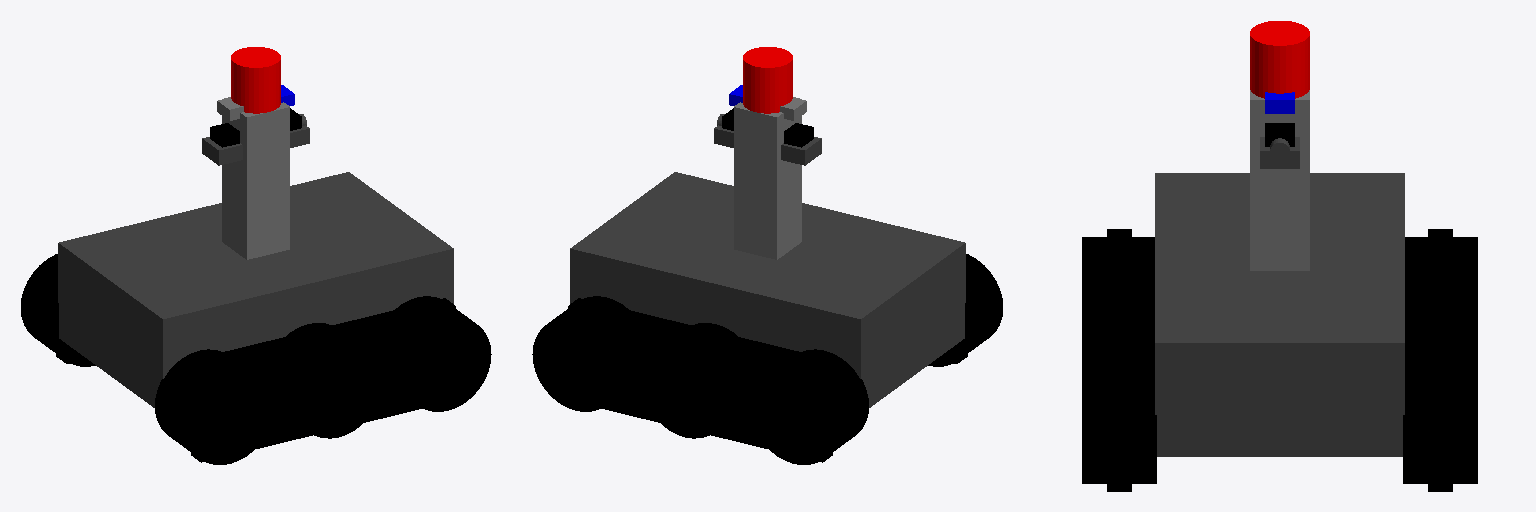
The robot description file, URDF, robot "agricultural_robot":
<?xml version="1.0"?>
<robot name="agricultural_robot" xmlns:xacro="http://www.ros.org/wiki/xacro">

  <!-- Define materials -->
  <material name="black">
    <color rgba="0 0 0 1"/>
  </material>
  
  <material name="gray">
    <color rgba="0.5 0.5 0.5 1"/>
  </material>
  
  <material name="dark_gray">
    <color rgba="0.3 0.3 0.3 1"/>
  </material>
  
  <material name="red">
    <color rgba="1 0 0 1"/>
  </material>
  
  <material name="blue">
    <color rgba="0 0 1 1"/>
  </material>

  <!-- Main body/chassis -->
  <link name="base_link">
    <inertial>
      <mass value="50"/>
      <inertia ixx="10" ixy="0" ixz="0" iyy="10" iyz="0" izz="10"/>
    </inertial>
    
    <visual>
      <geometry>
        <box size="0.8 0.5 0.25"/>
      </geometry>
      <material name="dark_gray"/>
    </visual>
    
    <collision>
      <geometry>
        <box size="0.8 0.5 0.25"/>
      </geometry>
    </collision>
  </link>
  
  <!-- Left track assembly with multiple wheels -->
  <link name="left_track_front">
    <inertial>
      <mass value="3"/>
      <inertia ixx="0.1" ixy="0" ixz="0" iyy="0.1" iyz="0" izz="0.1"/>
    </inertial>
    
    <visual>
      <origin xyz="0 0 0" rpy="1.5708 0 0"/>
      <geometry>
        <cylinder length="0.15" radius="0.12"/>
      </geometry>
      <material name="black"/>
    </visual>
    
    <collision>
      <origin xyz="0 0 0" rpy="1.5708 0 0"/>
      <geometry>
        <cylinder length="0.15" radius="0.12"/>
      </geometry>
    </collision>
  </link>
  
  <joint name="left_track_front_joint" type="continuous">
    <parent link="base_link"/>
    <child link="left_track_front"/>
    <origin xyz="0.3 0.32 -0.1" rpy="0 0 0"/>
    <axis xyz="0 0 1"/>
  </joint>
  
  <link name="left_track_middle">
    <inertial>
      <mass value="3"/>
      <inertia ixx="0.1" ixy="0" ixz="0" iyy="0.1" iyz="0" izz="0.1"/>
    </inertial>
    
    <visual>
      <origin xyz="0 0 0" rpy="1.5708 0 0"/>
      <geometry>
        <cylinder length="0.15" radius="0.12"/>
      </geometry>
      <material name="black"/>
    </visual>
    
    <collision>
      <origin xyz="0 0 0" rpy="1.5708 0 0"/>
      <geometry>
        <cylinder length="0.15" radius="0.12"/>
      </geometry>
    </collision>
  </link>
  
  <joint name="left_track_middle_joint" type="continuous">
    <parent link="base_link"/>
    <child link="left_track_middle"/>
    <origin xyz="0 0.32 -0.1" rpy="0 0 0"/>
    <axis xyz="0 0 1"/>
  </joint>
  
  <link name="left_track_rear">
    <inertial>
      <mass value="3"/>
      <inertia ixx="0.1" ixy="0" ixz="0" iyy="0.1" iyz="0" izz="0.1"/>
    </inertial>
    
    <visual>
      <origin xyz="0 0 0" rpy="1.5708 0 0"/>
      <geometry>
        <cylinder length="0.15" radius="0.12"/>
      </geometry>
      <material name="black"/>
    </visual>
    
    <collision>
      <origin xyz="0 0 0" rpy="1.5708 0 0"/>
      <geometry>
        <cylinder length="0.15" radius="0.12"/>
      </geometry>
    </collision>
  </link>
  
  <joint name="left_track_rear_joint" type="continuous">
    <parent link="base_link"/>
    <child link="left_track_rear"/>
    <origin xyz="-0.3 0.32 -0.1" rpy="0 0 0"/>
    <axis xyz="0 0 1"/>
  </joint>
  
  <!-- Right track assembly with multiple wheels -->
  <link name="right_track_front">
    <inertial>
      <mass value="3"/>
      <inertia ixx="0.1" ixy="0" ixz="0" iyy="0.1" iyz="0" izz="0.1"/>
    </inertial>
    
    <visual>
      <origin xyz="0 0 0" rpy="1.5708 0 0"/>
      <geometry>
        <cylinder length="0.15" radius="0.12"/>
      </geometry>
      <material name="black"/>
    </visual>
    
    <collision>
      <origin xyz="0 0 0" rpy="1.5708 0 0"/>
      <geometry>
        <cylinder length="0.15" radius="0.12"/>
      </geometry>
    </collision>
  </link>
  
  <joint name="right_track_front_joint" type="continuous">
    <parent link="base_link"/>
    <child link="right_track_front"/>
    <origin xyz="0.3 -0.32 -0.1" rpy="0 0 0"/>
    <axis xyz="0 0 1"/>
  </joint>
  
  <link name="right_track_middle">
    <inertial>
      <mass value="3"/>
      <inertia ixx="0.1" ixy="0" ixz="0" iyy="0.1" iyz="0" izz="0.1"/>
    </inertial>
    
    <visual>
      <origin xyz="0 0 0" rpy="1.5708 0 0"/>
      <geometry>
        <cylinder length="0.15" radius="0.12"/>
      </geometry>
      <material name="black"/>
    </visual>
    
    <collision>
      <origin xyz="0 0 0" rpy="1.5708 0 0"/>
      <geometry>
        <cylinder length="0.15" radius="0.12"/>
      </geometry>
    </collision>
  </link>
  
  <joint name="right_track_middle_joint" type="continuous">
    <parent link="base_link"/>
    <child link="right_track_middle"/>
    <origin xyz="0 -0.32 -0.1" rpy="0 0 0"/>
    <axis xyz="0 0 1"/>
  </joint>
  
  <link name="right_track_rear">
    <inertial>
      <mass value="3"/>
      <inertia ixx="0.1" ixy="0" ixz="0" iyy="0.1" iyz="0" izz="0.1"/>
    </inertial>
    
    <visual>
      <origin xyz="0 0 0" rpy="1.5708 0 0"/>
      <geometry>
        <cylinder length="0.15" radius="0.12"/>
      </geometry>
      <material name="black"/>
    </visual>
    
    <collision>
      <origin xyz="0 0 0" rpy="1.5708 0 0"/>
      <geometry>
        <cylinder length="0.15" radius="0.12"/>
      </geometry>
    </collision>
  </link>
  
  <joint name="right_track_rear_joint" type="continuous">
    <parent link="base_link"/>
    <child link="right_track_rear"/>
    <origin xyz="-0.3 -0.32 -0.1" rpy="0 0 0"/>
    <axis xyz="0 0 1"/>
  </joint>
  
  <!-- Track belts (visual only) -->
  <link name="left_track_belt">
    <visual>
      <origin xyz="0 0.32 -0.1" rpy="0 0 0"/>
      <geometry>
        <box size="0.7 0.05 0.25"/>
      </geometry>
      <material name="black"/>
    </visual>
  </link>
  
  <joint name="left_track_belt_joint" type="fixed">
    <parent link="base_link"/>
    <child link="left_track_belt"/>
  </joint>
  
  <link name="right_track_belt">
    <visual>
      <origin xyz="0 -0.32 -0.1" rpy="0 0 0"/>
      <geometry>
        <box size="0.7 0.05 0.25"/>
      </geometry>
      <material name="black"/>
    </visual>
  </link>
  
  <joint name="right_track_belt_joint" type="fixed">
    <parent link="base_link"/>
    <child link="right_track_belt"/>
  </joint>
  
  <!-- Sensor mast -->
  <link name="sensor_mast">
    <inertial>
      <mass value="2"/>
      <inertia ixx="0.1" ixy="0" ixz="0" iyy="0.1" iyz="0" izz="0.1"/>
    </inertial>
    
    <visual>
      <geometry>
        <box size="0.12 0.12 0.4"/>
      </geometry>
      <material name="gray"/>
    </visual>
    
    <collision>
      <geometry>
        <box size="0.12 0.12 0.4"/>
      </geometry>
    </collision>
  </link>
  
  <joint name="sensor_mast_joint" type="fixed">
    <parent link="base_link"/>
    <child link="sensor_mast"/>
    <origin xyz="0 0 0.3" rpy="0 0 0"/>
  </joint>
  
  <!-- LiDAR sensor at the top -->
  <link name="lidar_link">
    <inertial>
      <mass value="0.5"/>
      <inertia ixx="0.01" ixy="0" ixz="0" iyy="0.01" iyz="0" izz="0.01"/>
    </inertial>
    
    <visual>
      <geometry>
        <cylinder length="0.12" radius="0.06"/>
      </geometry>
      <material name="red"/>
    </visual>
    
    <collision>
      <geometry>
        <cylinder length="0.12" radius="0.06"/>
      </geometry>
    </collision>
  </link>
  
  <joint name="lidar_joint" type="fixed">
    <parent link="sensor_mast"/>
    <child link="lidar_link"/>
    <origin xyz="0 0 0.26" rpy="0 0 0"/>
  </joint>
  
  <!-- IMU sensor -->
  <link name="imu_link">
    <inertial>
      <mass value="0.1"/>
      <inertia ixx="0.001" ixy="0" ixz="0" iyy="0.001" iyz="0" izz="0.001"/>
    </inertial>
    
    <visual>
      <geometry>
        <box size="0.06 0.06 0.03"/>
      </geometry>
      <material name="blue"/>
    </visual>
    
    <collision>
      <geometry>
        <box size="0.06 0.06 0.03"/>
      </geometry>
    </collision>
  </link>
  
  <joint name="imu_joint" type="fixed">
    <parent link="sensor_mast"/>
    <child link="imu_link"/>
    <origin xyz="0.06 0 0.2" rpy="0 0 0"/>
  </joint>
  
  <!-- GPS sensor -->
  <link name="gps_link">
    <inertial>
      <mass value="0.1"/>
      <inertia ixx="0.001" ixy="0" ixz="0" iyy="0.001" iyz="0" izz="0.001"/>
    </inertial>
    
    <visual>
      <geometry>
        <box size="0.06 0.06 0.03"/>
      </geometry>
      <material name="gray"/>
    </visual>
    
    <collision>
      <geometry>
        <box size="0.06 0.06 0.03"/>
      </geometry>
    </collision>
  </link>
  
  <joint name="gps_joint" type="fixed">
    <parent link="sensor_mast"/>
    <child link="gps_link"/>
    <origin xyz="-0.06 0 0.2" rpy="0 0 0"/>
  </joint>
  
  <!-- STEREO CAMERA MOUNT - positioned below LIDAR -->
  <link name="stereo_camera_mount">
    <inertial>
      <mass value="0.5"/>
      <inertia ixx="0.01" ixy="0" ixz="0" iyy="0.01" iyz="0" izz="0.01"/>
    </inertial>
    
    <visual>
      <geometry>
        <box size="0.25 0.08 0.04"/>
      </geometry>
      <material name="dark_gray"/>
    </visual>
    
    <collision>
      <geometry>
        <box size="0.25 0.08 0.04"/>
      </geometry>
    </collision>
  </link>
  
  <joint name="stereo_camera_mount_joint" type="fixed">
    <parent link="sensor_mast"/>
    <child link="stereo_camera_mount"/>
    <origin xyz="0 0 0.1" rpy="0 0 0"/>
  </joint>
  
  <!-- LEFT CAMERA - positioned side-by-side horizontally -->
  <link name="left_camera_link">
    <inertial>
      <mass value="0.2"/>
      <inertia ixx="0.001" ixy="0" ixz="0" iyy="0.001" iyz="0" izz="0.001"/>
    </inertial>
    
    <!-- Camera body -->
    <visual>
      <origin xyz="0 0 0" rpy="0 0 0"/>
      <geometry>
        <box size="0.06 0.06 0.06"/>
      </geometry>
      <material name="black"/>
    </visual>
    
    <!-- Camera lens - clearly visible -->
    <visual>
      <origin xyz="0.03 0 0" rpy="0 1.5708 0"/>
      <geometry>
        <cylinder length="0.04" radius="0.02"/>
      </geometry>
      <material name="dark_gray"/>
    </visual>
    
    <collision>
      <geometry>
        <box size="0.06 0.06 0.06"/>
      </geometry>
    </collision>
  </link>
  
  <joint name="left_camera_joint" type="fixed">
    <parent link="stereo_camera_mount"/>
    <child link="left_camera_link"/>
    <origin xyz="-0.08 0 0.02" rpy="0 0 0"/>
  </joint>
  
  <!-- RIGHT CAMERA - positioned side-by-side horizontally -->
  <link name="right_camera_link">
    <inertial>
      <mass value="0.2"/>
      <inertia ixx="0.001" ixy="0" ixz="0" iyy="0.001" iyz="0" izz="0.001"/>
    </inertial>
    
    <!-- Camera body -->
    <visual>
      <origin xyz="0 0 0" rpy="0 0 0"/>
      <geometry>
        <box size="0.06 0.06 0.06"/>
      </geometry>
      <material name="black"/>
    </visual>
    
    <!-- Camera lens - clearly visible -->
    <visual>
      <origin xyz="0.03 0 0" rpy="0 1.5708 0"/>
      <geometry>
        <cylinder length="0.04" radius="0.02"/>
      </geometry>
      <material name="dark_gray"/>
    </visual>
    
    <collision>
      <geometry>
        <box size="0.06 0.06 0.06"/>
      </geometry>
    </collision>
  </link>
  
  <joint name="right_camera_joint" type="fixed">
    <parent link="stereo_camera_mount"/>
    <child link="right_camera_link"/>
    <origin xyz="0.08 0 0.02" rpy="0 0 0"/>
  </joint>
  
  <!-- Gazebo plugins for sensors -->
  <gazebo>
    <plugin name="imu_plugin" filename="libgazebo_ros_imu.so">
      <robotNamespace>/</robotNamespace>
      <topicName>imu/data</topicName>
      <serviceName>imu/service</serviceName>
      <bodyName>imu_link</bodyName>
      <gaussianNoise>0.0</gaussianNoise>
      <updateRate>50.0</updateRate>
    </plugin>
  </gazebo>
  
  <gazebo>
    <plugin name="gps_plugin" filename="libhector_gazebo_ros_gps.so">
      <robotNamespace>/</robotNamespace>
      <topicName>gps/fix</topicName>
      <referenceLatitude>49.9</referenceLatitude>
      <referenceLongitude>8.9</referenceLongitude>
      <referenceAltitude>0</referenceAltitude>
      <updateRate>10</updateRate>
    </plugin>
  </gazebo>
  
  <gazebo reference="lidar_link">
    <sensor type="ray" name="lidar_sensor">
      <pose>0 0 0 0 0 0</pose>
      <visualize>true</visualize>
      <update_rate>10</update_rate>
      <ray>
        <scan>
          <horizontal>
            <samples>360</samples>
            <min_angle>-3.14159</min_angle>
            <max_angle>3.14159</max_angle>
          </horizontal>
        </scan>
        <range>
          <min>0.1</min>
          <max>10.0</max>
          <resolution>0.01</resolution>
        </range>
      </ray>
      <plugin name="gazebo_ros_laser" filename="libgazebo_ros_laser.so">
        <topicName>/scan</topicName>
        <frameName>lidar_link</frameName>
      </plugin>
    </sensor>
  </gazebo>
  
  <gazebo reference="left_camera_link">
    <sensor type="camera" name="left_camera_sensor">
      <update_rate>30.0</update_rate>
      <camera name="left_camera">
        <horizontal_fov>1.3962634</horizontal_fov>
        <image>
          <width>640</width>
          <height>480</height>
          <format>R8G8B8</format>
        </image>
        <clip>
          <near>0.02</near>
          <far>300</far>
        </clip>
      </camera>
      <plugin name="left_camera_controller" filename="libgazebo_ros_camera.so">
        <alwaysOn>true</alwaysOn>
        <updateRate>0.0</updateRate>
        <cameraName>left_camera</cameraName>
        <imageTopicName>/left_camera/image_raw</imageTopicName>
        <cameraInfoTopicName>/left_camera/camera_info</cameraInfoTopicName>
        <frameName>left_camera_link</frameName>
      </plugin>
    </sensor>
  </gazebo>
  
  <gazebo reference="right_camera_link">
    <sensor type="camera" name="right_camera_sensor">
      <update_rate>30.0</update_rate>
      <camera name="right_camera">
        <horizontal_fov>1.3962634</horizontal_fov>
        <image>
          <width>640</width>
          <height>480</height>
          <format>R8G8B8</format>
        </image>
        <clip>
          <near>0.02</near>
          <far>300</far>
        </clip>
      </camera>
      <plugin name="right_camera_controller" filename="libgazebo_ros_camera.so">
        <alwaysOn>true</alwaysOn>
        <updateRate>0.0</updateRate>
        <cameraName>right_camera</cameraName>
        <imageTopicName>/right_camera/image_raw</imageTopicName>
        <cameraInfoTopicName>/right_camera/camera_info</cameraInfoTopicName>
        <frameName>right_camera_link</frameName>
      </plugin>
    </sensor>
  </gazebo>
  
  <!-- Differential drive plugin for the tracks -->
  <gazebo>
    <plugin name="differential_drive_controller" filename="libgazebo_ros_diff_drive.so">
      <alwaysOn>true</alwaysOn>
      <updateRate>20</updateRate>
      <leftJoint>left_track_front_joint</leftJoint>
      <rightJoint>right_track_front_joint</rightJoint>
      <wheelSeparation>0.64</wheelSeparation>
      <wheelDiameter>0.24</wheelDiameter>
      <torque>20</torque>
      <commandTopic>cmd_vel</commandTopic>
      <odometryTopic>odom</odometryTopic>
      <odometryFrame>odom</odometryFrame>
      <robotBaseFrame>base_link</robotBaseFrame>
    </plugin>
  </gazebo>

</robot>

--- Facts derived from the render (not from the file) ---
3 views of the same robot in one strip: view 1: azimuth 30°, elevation 25°; view 2: azimuth 150°, elevation 25°; view 3: azimuth 270°, elevation 25° (orthographic).
Robot: agricultural_robot — 16 links, 15 joints (6 continuous, 9 fixed); root link base_link; default pose: every joint at zero.
Visible links, largest first — view 1: base_link, right_track_rear, right_track_belt, sensor_mast, right_track_front, right_track_middle, left_track_rear, lidar_link, stereo_camera_mount, left_camera_link; view 2: base_link, left_track_rear, left_track_belt, sensor_mast, left_track_front, left_track_middle, right_track_rear, lidar_link, stereo_camera_mount, left_camera_link; view 3: base_link, left_track_front, right_track_front, sensor_mast, lidar_link, left_track_belt, right_track_belt, left_track_middle, right_track_middle, left_track_rear, right_track_rear, right_camera_link (+2 smaller).
Link boxes in pixels (box(x1,y1,x2,y2)): base_link: box(58, 172, 453, 407); right_track_rear: box(155, 349, 272, 464); right_track_belt: box(191, 298, 455, 462); sensor_mast: box(222, 97, 289, 259); right_track_front: box(394, 296, 491, 411); right_track_middle: box(285, 323, 381, 438); left_track_rear: box(21, 254, 95, 366); lidar_link: box(231, 47, 280, 113); stereo_camera_mount: box(202, 125, 309, 165); left_camera_link: box(210, 123, 239, 147); base_link: box(570, 172, 965, 407); left_track_rear: box(751, 349, 868, 464); left_track_belt: box(568, 298, 832, 462); sensor_mast: box(734, 97, 801, 259); left_track_front: box(532, 296, 629, 411); left_track_middle: box(642, 323, 738, 438); right_track_rear: box(928, 254, 1002, 366); lidar_link: box(743, 47, 792, 113); stereo_camera_mount: box(714, 125, 821, 165); left_camera_link: box(784, 123, 813, 147); base_link: box(1155, 173, 1404, 456); left_track_front: box(1403, 364, 1477, 483); right_track_front: box(1082, 364, 1156, 483); sensor_mast: box(1250, 90, 1309, 270); lidar_link: box(1250, 21, 1309, 98); left_track_belt: box(1428, 229, 1452, 491); right_track_belt: box(1107, 229, 1131, 491); left_track_middle: box(1405, 300, 1477, 363); right_track_middle: box(1082, 300, 1154, 363); left_track_rear: box(1405, 237, 1477, 299); right_track_rear: box(1082, 237, 1154, 299); right_camera_link: box(1265, 123, 1294, 160).
Bounding box of the posed robot: 0.84 × 0.79 × 0.845 m (x, y, z).
Geometry: primitives only (box / cylinder / sphere), no mesh files.
